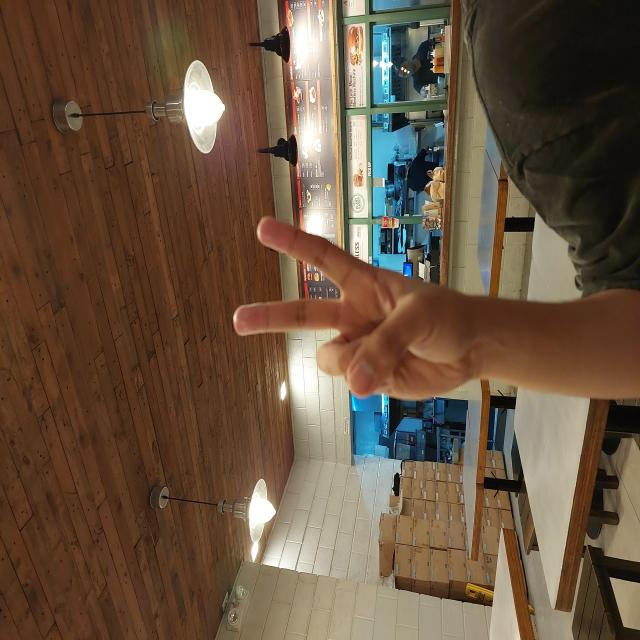V: (236, 232, 426, 476)
